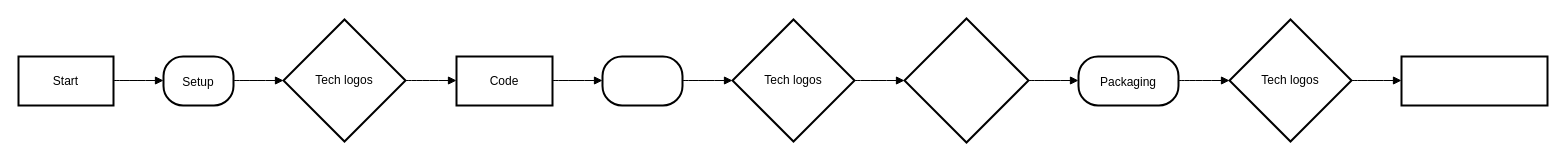
Image size: 1565x160. Some labels were removed from this diagram. The box of each missing label's shape, as (x1, y1, x2, y2) in pixels:
Deployment: (1400, 55, 1548, 106)
More Code: (903, 17, 1029, 143)
Testing: (601, 55, 683, 106)
